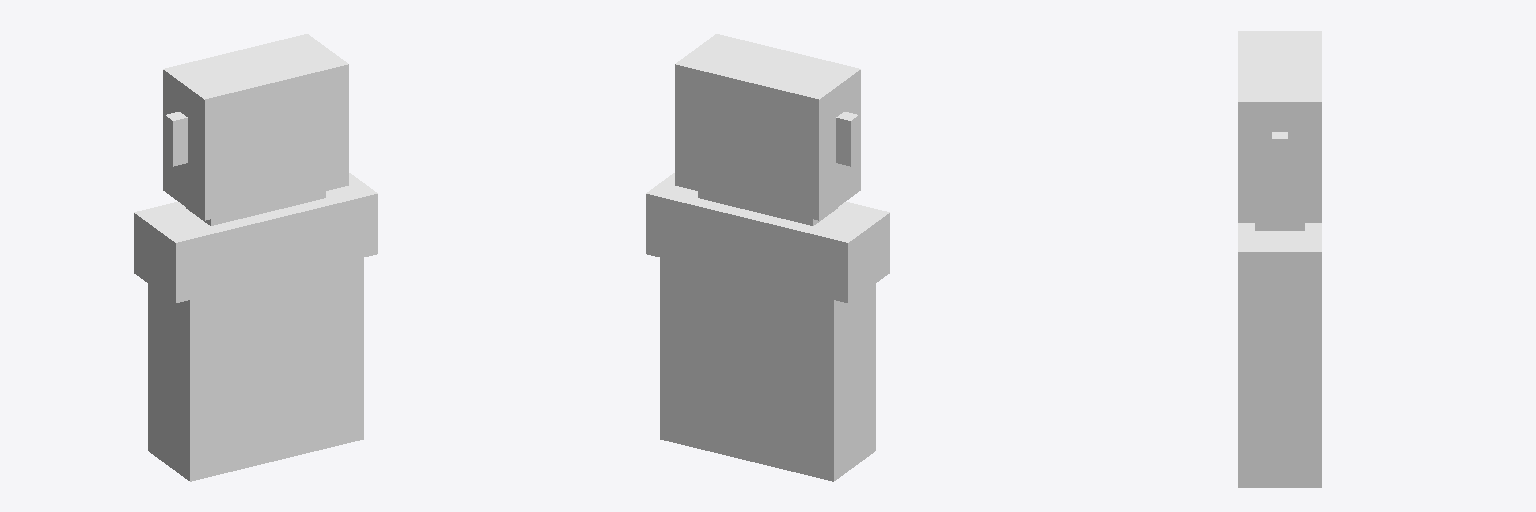
The model's file is hard-3.obj.
The picture shows the model from 3 angles: view 1: azimuth 30°, elevation 25°; view 2: azimuth 150°, elevation 25°; view 3: azimuth 270°, elevation 25°; orthographic projection.
Visible parts, largest first — view 1: object 1; view 2: object 1; view 3: object 1.
Boxes of the visible parts, x1=… form: object 1: x1=134, y1=34, x2=377, y2=481; object 1: x1=646, y1=34, x2=889, y2=481; object 1: x1=1238, y1=31, x2=1321, y2=487.
Size of the model in its own units: 1.4 by 2.5 by 0.5.